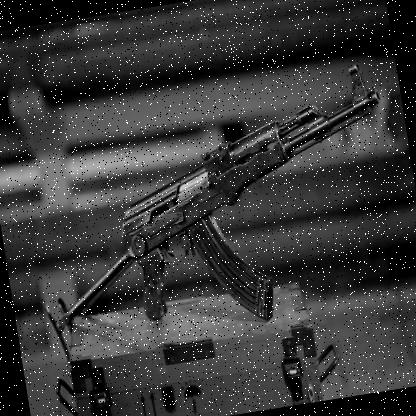rifle: (17, 71, 408, 353)
